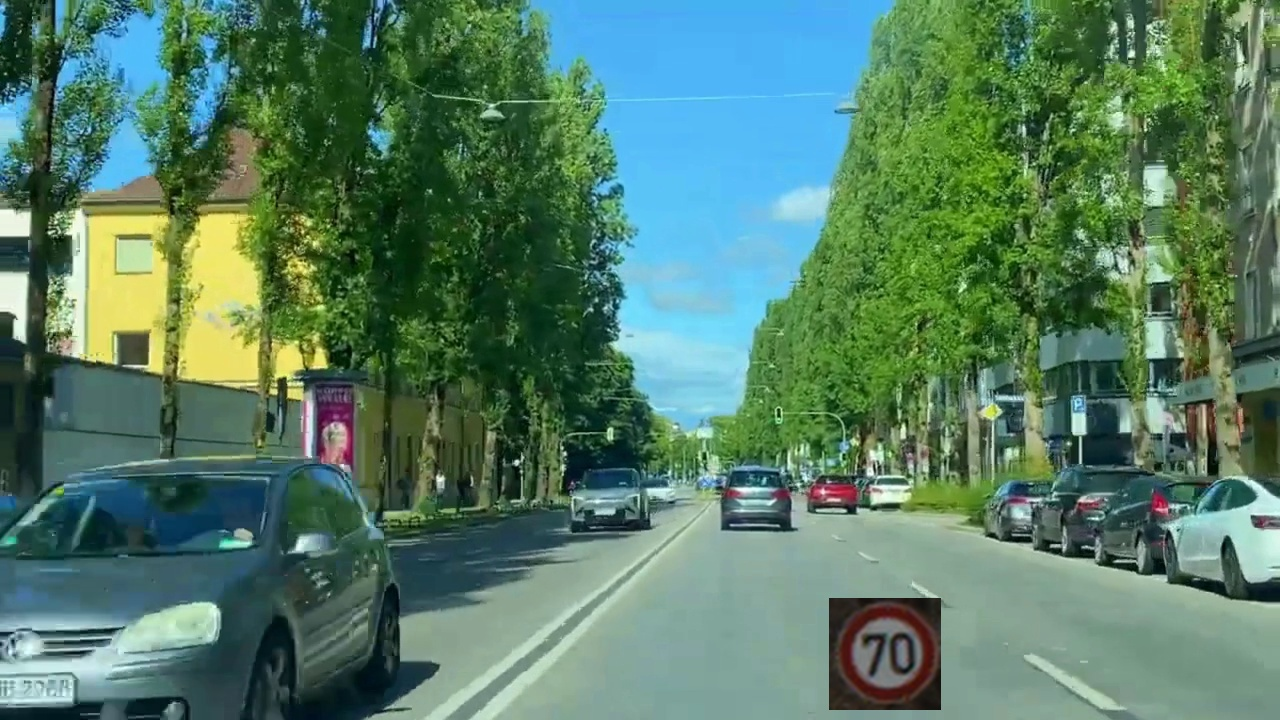Speed 70: (829, 598, 941, 710)
